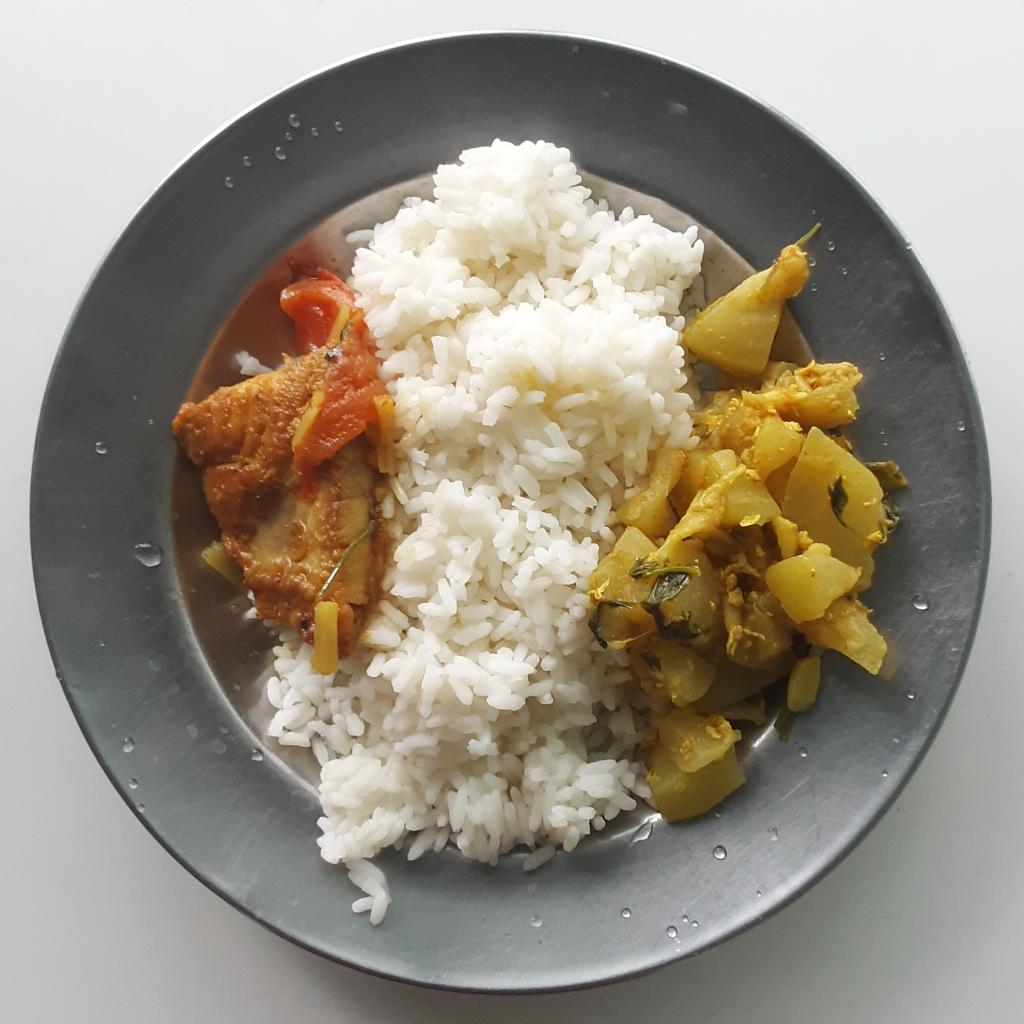fish: (173, 350, 383, 674)
papaya: (586, 243, 898, 824)
rice: (262, 137, 704, 928)
tomato: (282, 265, 387, 472)
